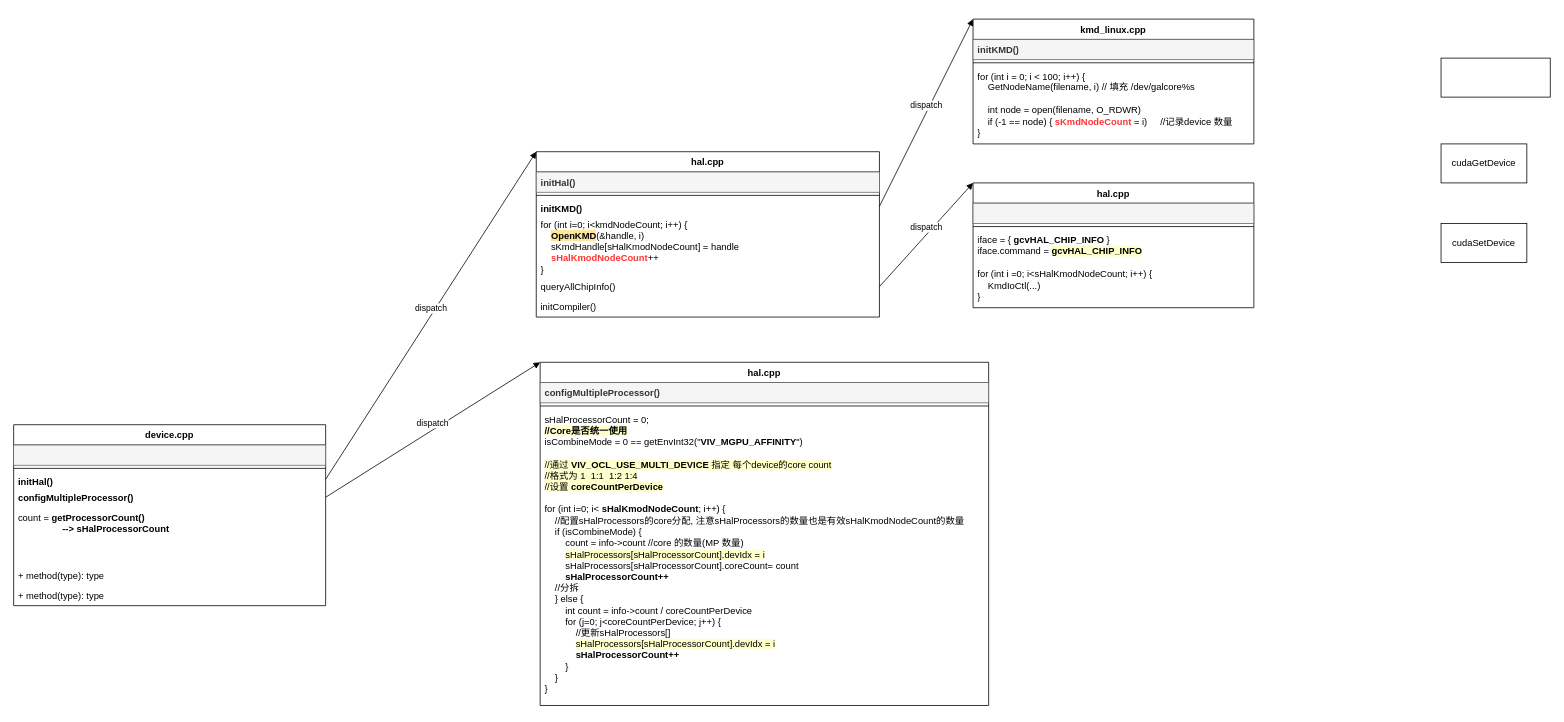
The diagram is 1564 pixels wide and 722 high, and some of its shapes have lost their labels. The centre of each missing label's shape, as x and y in pixels:
cudaGetDeviceCount: (x=1495, y=77)
initDriver(void): (x=169, y=454)
queryAllChipInfo: (x=1113, y=212)
